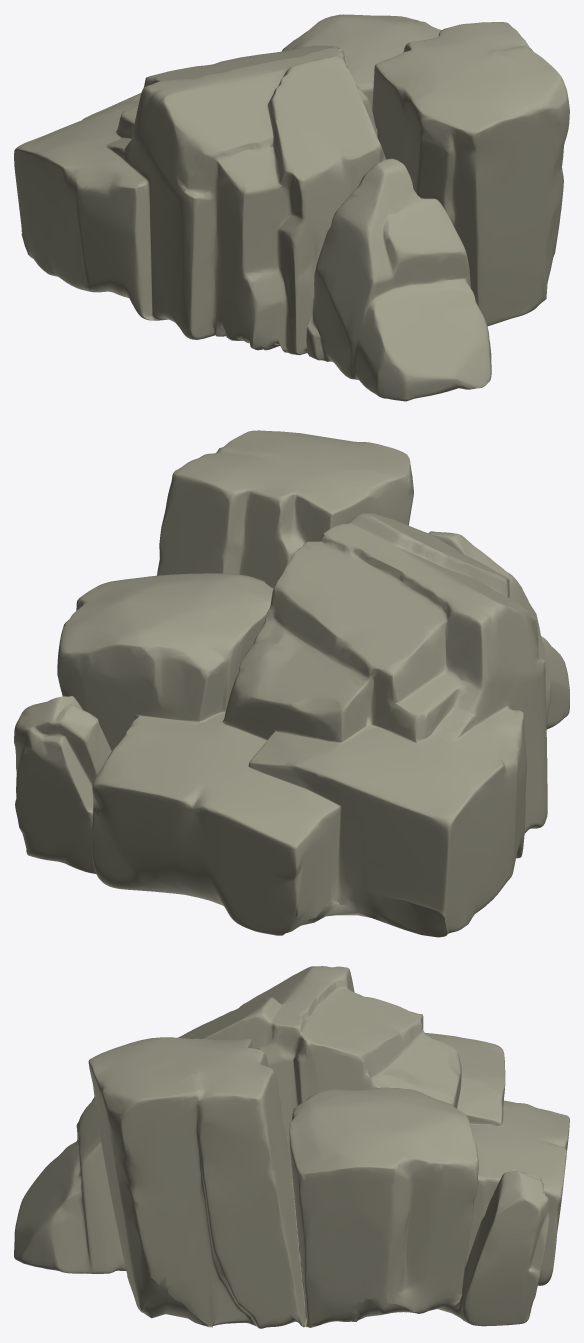
3 views of the same model, one above another, from view 1: azimuth 30°, elevation 25°; view 2: azimuth 150°, elevation 25°; view 3: azimuth 270°, elevation 25° (orthographic). The views are drawn at different scales.
Visible parts, largest first — view 1: SM_BM_Cliff_Bottom_01_LOD0; view 2: SM_BM_Cliff_Bottom_01_LOD0; view 3: SM_BM_Cliff_Bottom_01_LOD0.
Boxes of the visible parts, x1,y1,x2,y2 form: SM_BM_Cliff_Bottom_01_LOD0: (14,14,569,401); SM_BM_Cliff_Bottom_01_LOD0: (14,430,569,937); SM_BM_Cliff_Bottom_01_LOD0: (14,966,569,1328).
Size of the model in its own units: 6.73 by 4.07 by 8.62.
